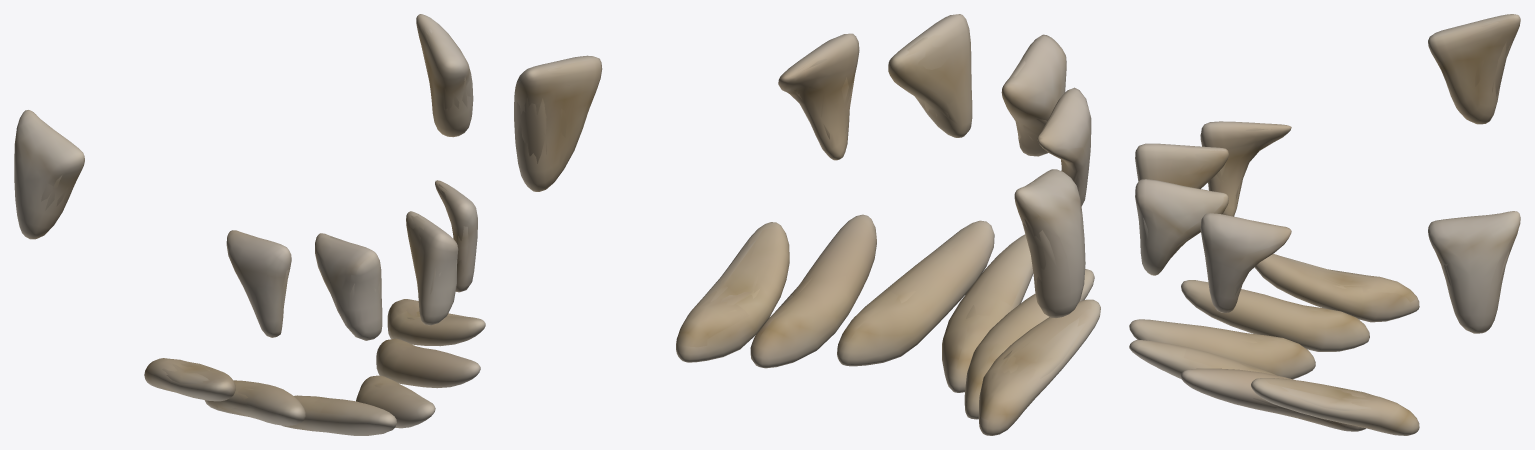
Rendered from Teeth Incisor.fbx.
3 renders of one model, left to right at view 1: azimuth 30°, elevation 25°; view 2: azimuth 150°, elevation 25°; view 3: azimuth 270°, elevation 25°, orthographic. The views are drawn at different scales.
Visible parts, largest first — view 1: Teeth Incisor, Teeth Incisor low; view 2: Teeth Incisor, Teeth Incisor low; view 3: Teeth Incisor, Teeth Incisor low.
Boxes of the visible parts, x1=… form: Teeth Incisor: x1=14, y1=14, x2=485, y2=435; Teeth Incisor low: x1=41, y1=26, x2=470, y2=429; Teeth Incisor: x1=514, y1=14, x2=1100, y2=435; Teeth Incisor low: x1=516, y1=35, x2=1085, y2=384; Teeth Incisor: x1=1129, y1=14, x2=1520, y2=435; Teeth Incisor low: x1=1143, y1=21, x2=1512, y2=429.
Bounding box in the file's own units: 4.71 × 2.76 × 3.46.
Materials: 1 (1 with a texture image).
